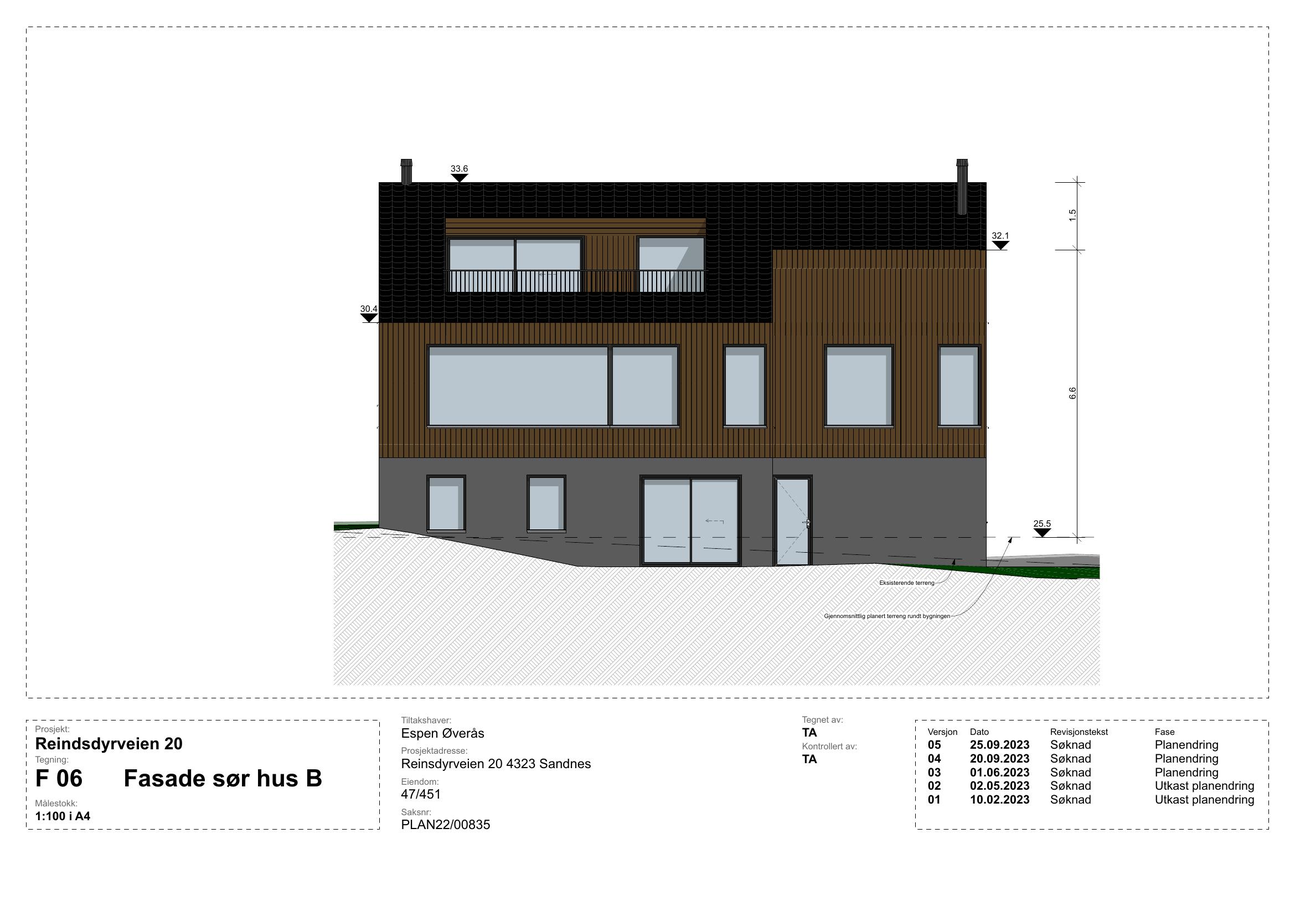fasade: (374, 157, 990, 578)
